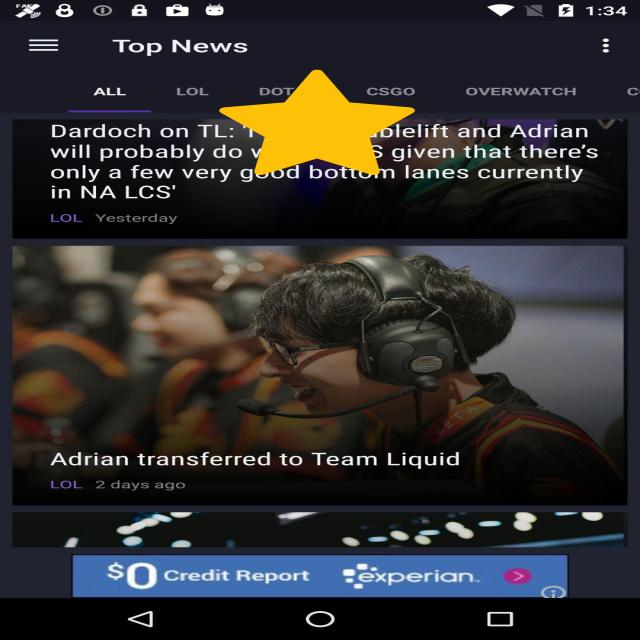forced continuity: (219, 70, 415, 175)
